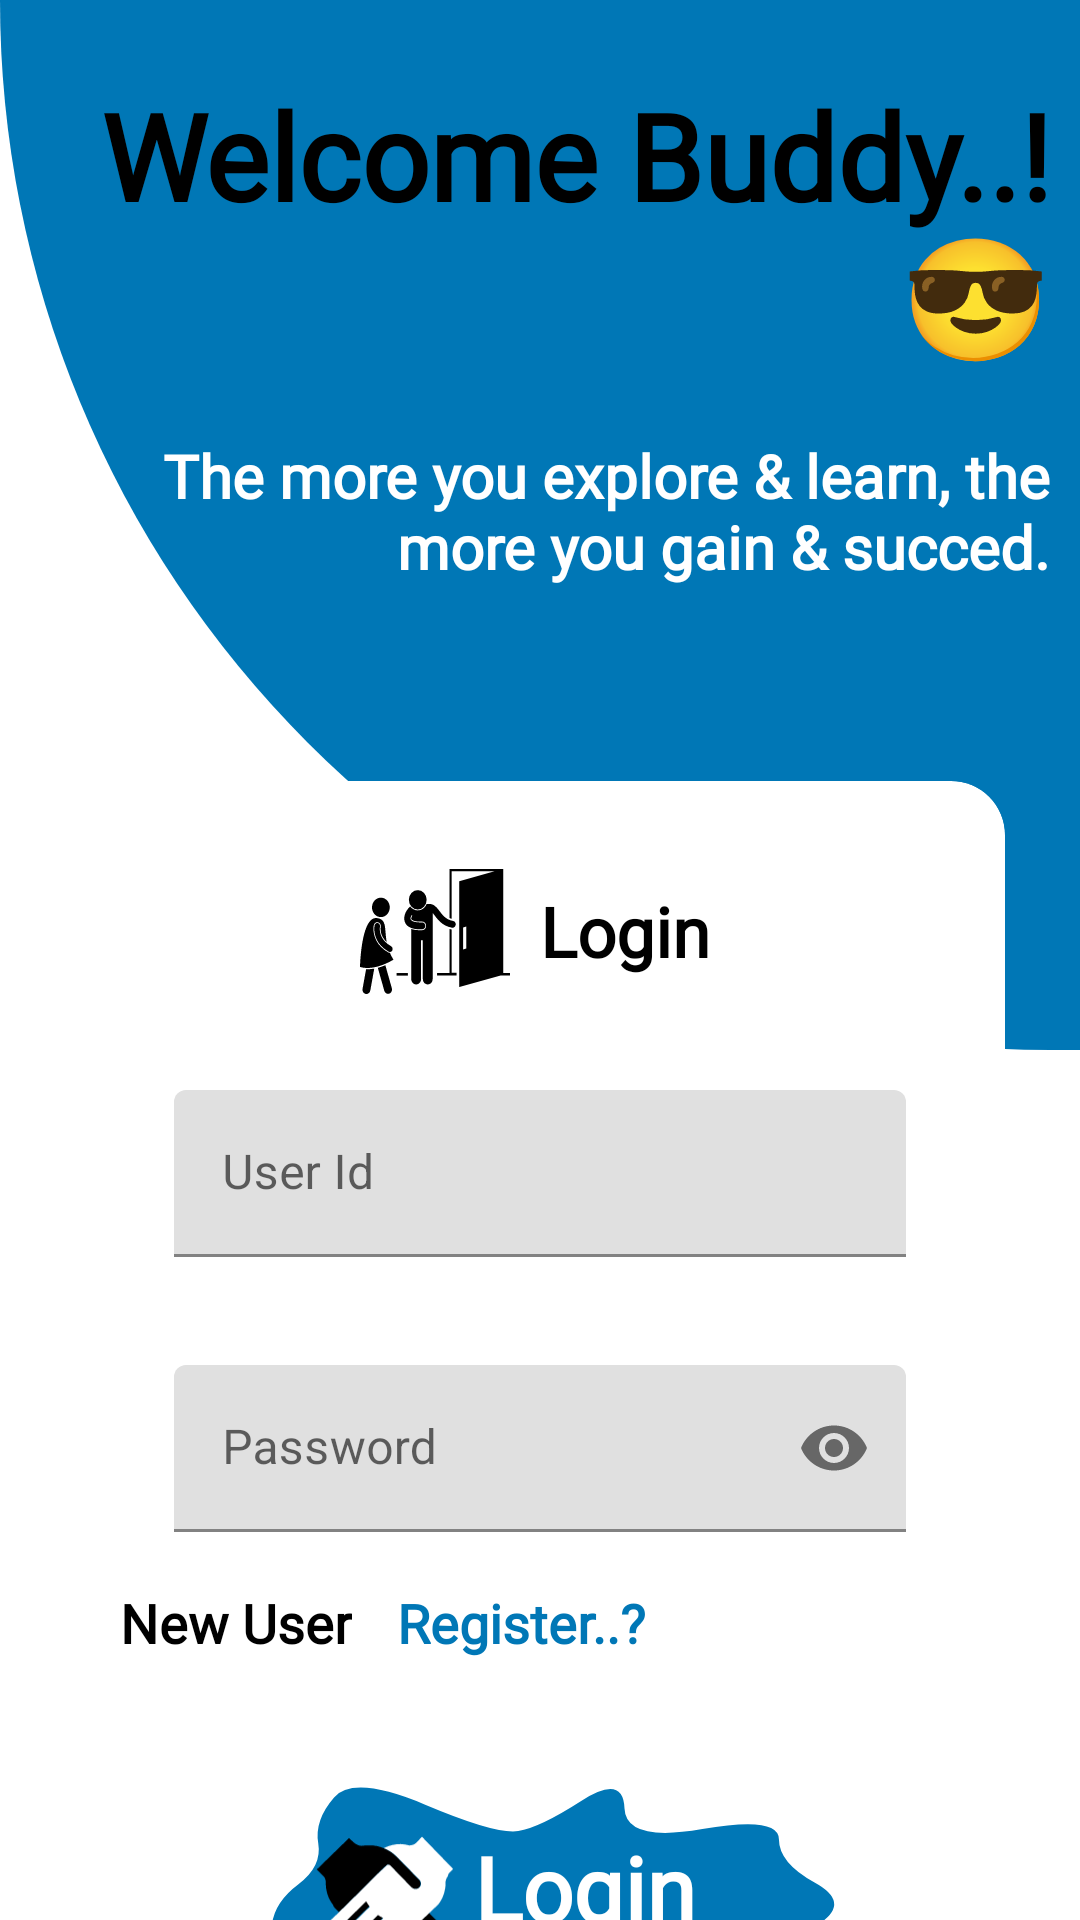

Icon bounding boxes for this 1080 x 1920 phone screenshot, format {"x1": x1, "y1": y1, "x2": x2, "y2": y2}:
welcome: {"x1": 360, "y1": 869, "x2": 510, "y2": 994}
